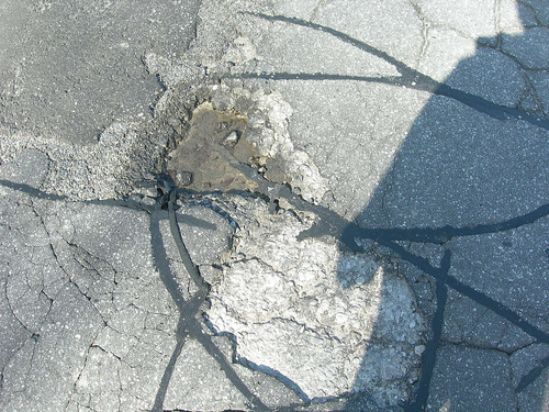pothole: (194, 214, 439, 411), (139, 92, 285, 195)
